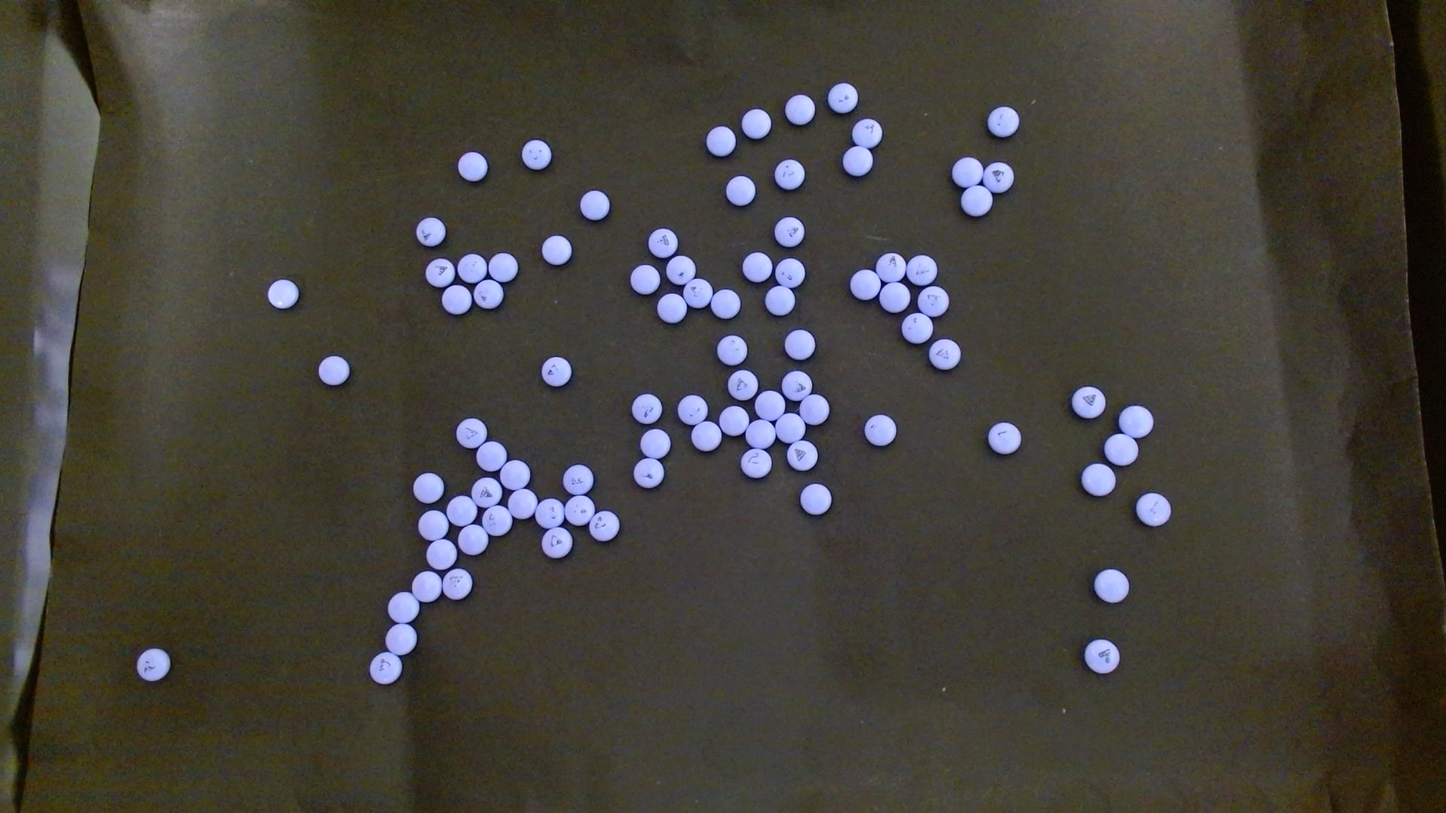Circle: (1094, 567, 1130, 603), (1083, 638, 1119, 673), (737, 447, 774, 481), (1080, 462, 1115, 497), (441, 566, 475, 602), (562, 461, 596, 496), (1071, 385, 1106, 419), (1136, 492, 1171, 526), (1118, 404, 1153, 438), (715, 333, 749, 367), (540, 526, 574, 560), (588, 509, 621, 544), (782, 328, 815, 363), (1103, 433, 1139, 465), (780, 369, 813, 403), (726, 369, 760, 402), (457, 523, 490, 557), (878, 281, 912, 314), (136, 647, 169, 681), (676, 393, 709, 426), (470, 475, 503, 508), (481, 504, 514, 537), (410, 570, 443, 603), (682, 277, 714, 311), (475, 440, 509, 472), (987, 422, 1021, 454), (507, 487, 539, 520), (446, 494, 478, 527), (718, 405, 750, 438), (875, 251, 907, 284), (542, 355, 574, 388), (864, 413, 896, 446), (369, 651, 401, 684), (960, 184, 992, 217), (535, 496, 566, 530), (665, 254, 697, 286), (774, 256, 806, 288), (982, 160, 1014, 192), (901, 313, 933, 345), (987, 105, 1019, 137), (774, 216, 806, 248), (799, 483, 831, 515), (417, 509, 449, 541), (413, 471, 444, 504), (456, 417, 487, 449), (755, 390, 786, 422), (951, 156, 983, 187), (386, 623, 417, 655), (388, 591, 419, 623), (917, 286, 948, 317), (267, 278, 298, 309), (640, 428, 671, 459), (841, 145, 872, 176), (798, 394, 829, 425), (850, 269, 881, 300), (774, 158, 804, 190), (775, 413, 807, 443), (426, 538, 456, 570), (742, 251, 772, 283), (472, 279, 503, 309), (928, 339, 959, 369), (786, 440, 817, 470), (632, 393, 662, 424), (633, 458, 664, 488), (564, 495, 595, 525), (827, 82, 857, 113), (907, 254, 937, 285), (541, 235, 572, 265), (318, 355, 349, 385), (764, 285, 794, 316), (499, 459, 529, 490), (441, 284, 471, 315), (740, 108, 770, 139), (691, 420, 721, 451), (648, 227, 678, 257), (521, 139, 551, 169), (457, 151, 487, 181), (579, 190, 609, 220), (745, 419, 775, 449), (726, 175, 755, 206), (785, 93, 814, 124), (712, 288, 741, 319), (488, 251, 517, 282), (706, 125, 735, 156), (630, 263, 659, 294), (426, 257, 455, 287), (657, 293, 686, 323), (852, 117, 881, 146), (416, 217, 444, 246), (459, 254, 485, 282)
